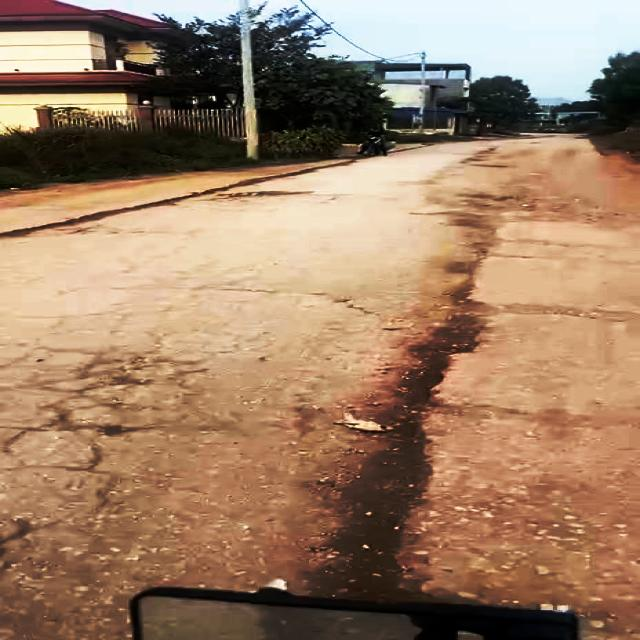pothole: (319, 302, 502, 601)
